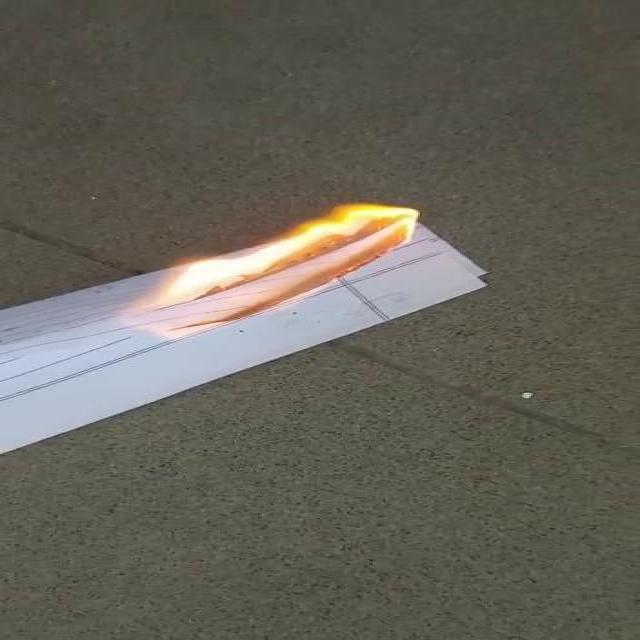Fire: (155, 204, 436, 306)
